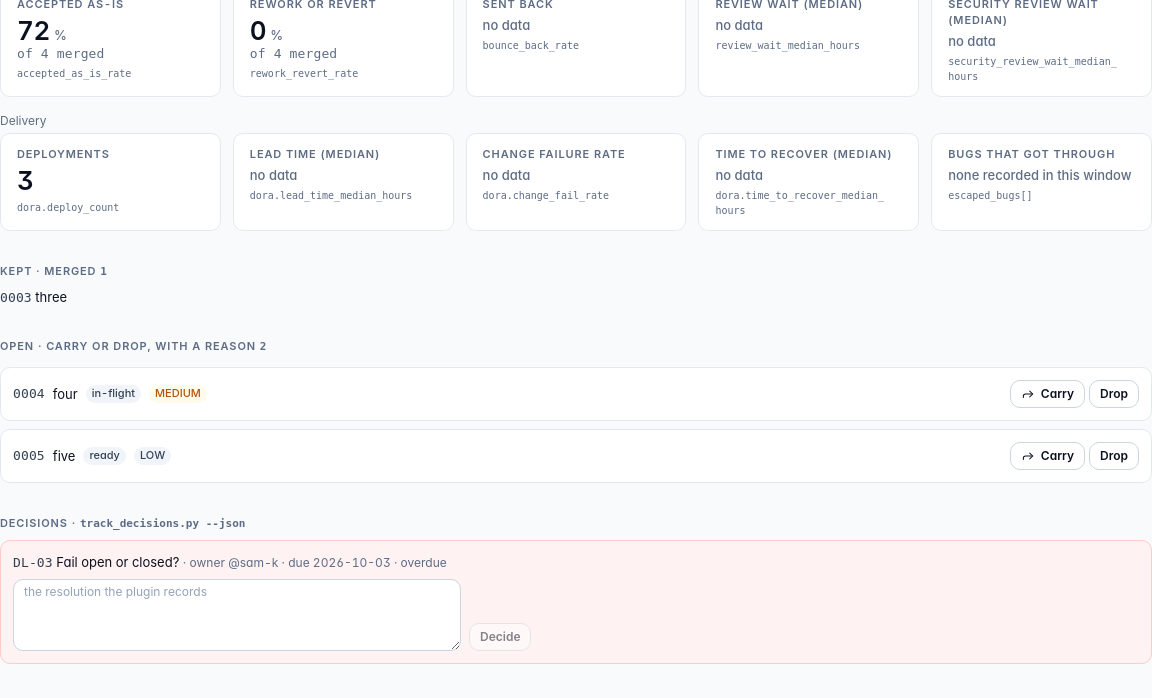
Scenario: SprintClose › the close argv has one --carry / --drop per decided spec; an undecided spec is named for the plugin to refuse; exit 0 renders and opens the review page
(page scrolled)
Check: the element with test id "close-outcomes" is shown, box x1=0 y1=0 x2=1151 y2=230
Click the button "Carry" in the row of "MEDIUM" at (1047, 394), box x1=1010 y1=380 x2=1085 y2=408
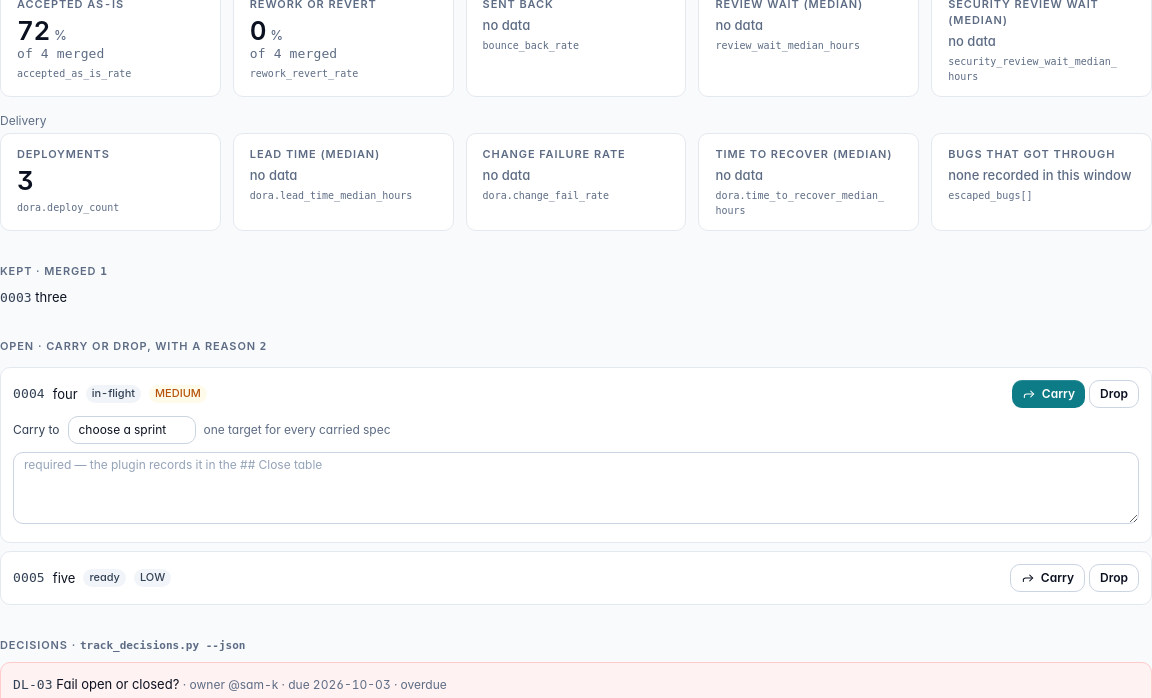
Select "S09 · planning" in the dropdown labelled "Carry to" at (132, 430), box x1=68 y1=416 x2=196 y2=444
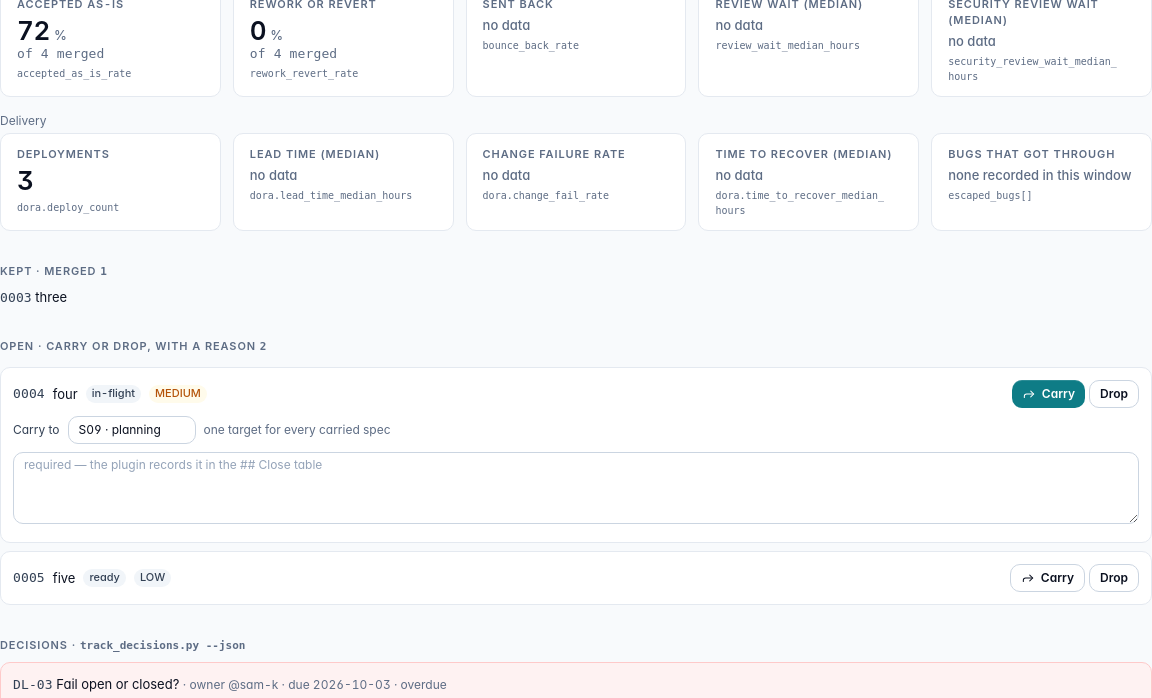
Type "blocked on DL-03" into the text box named "Reason for carrying 0004" at (576, 488), box x1=13 y1=452 x2=1139 y2=524
(page scrolled)
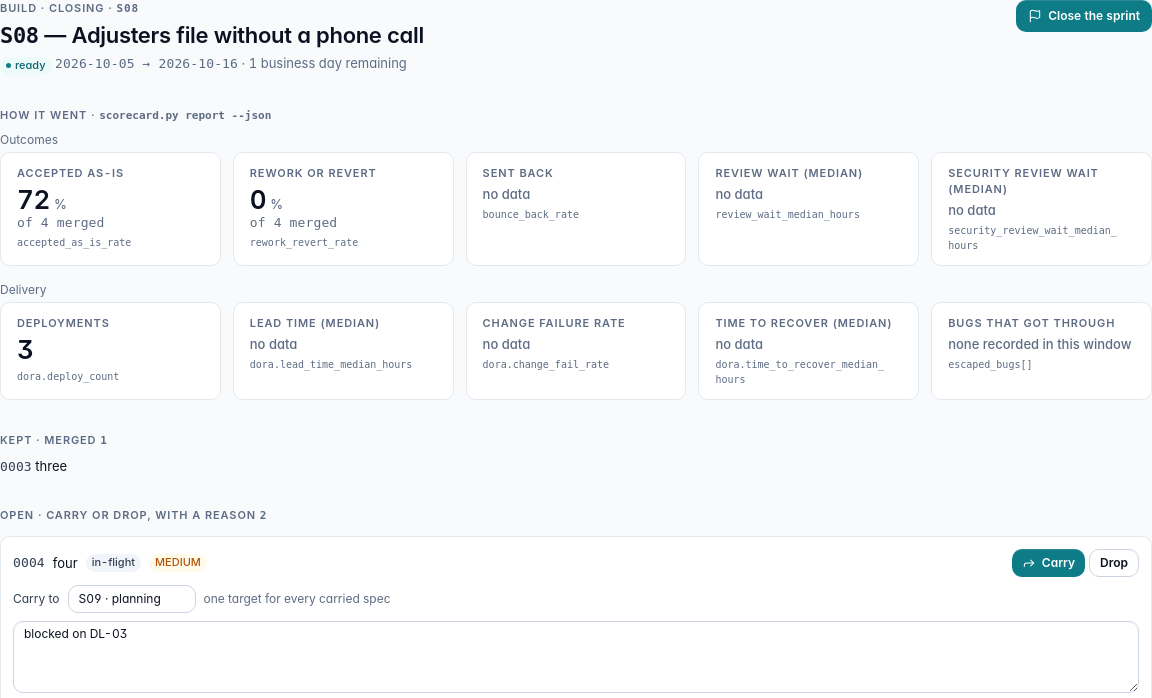
Click the button "Close the sprint" at (1084, 16), box x1=1016 y1=0 x2=1151 y2=32
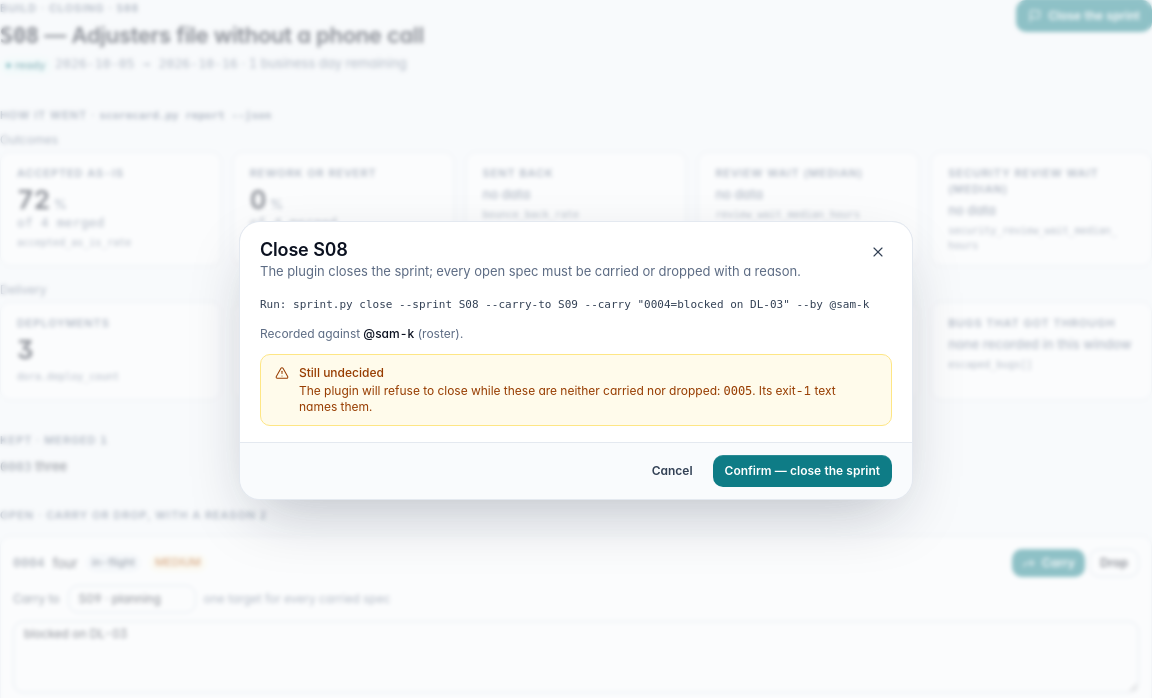
Check: the text with test id "close-argv" shows "Run: sprint.py close --sprint S08 --carry-to S09 --carry \"0004=blocked on DL-03\" --by @sam-k", box x1=260 y1=298 x2=869 y2=310
Check: the text "Still undecided" is shown, box x1=299 y1=364 x2=384 y2=380
Check: the text "0005" is shown, box x1=723 y1=384 x2=752 y2=398
Click the button "Confirm — close the sprint" at (802, 470), box x1=713 y1=454 x2=892 y2=486
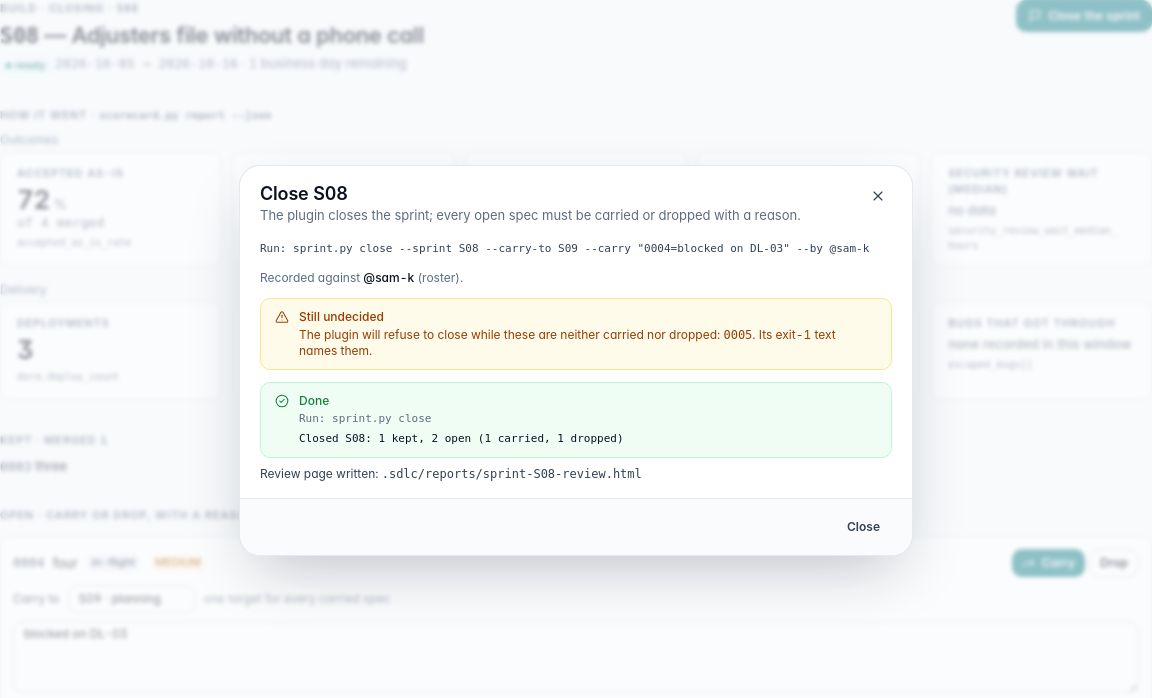
Check: the text "Done" is shown, box x1=299 y1=392 x2=329 y2=408
Check: the text "Closed S08: 1 kept, 2 open (1 carried, 1 dropped)" is shown, box x1=299 y1=432 x2=624 y2=444
Check: the element with test id "review-written" shows "sprint-S08-review.html", box x1=382 y1=466 x2=642 y2=480
